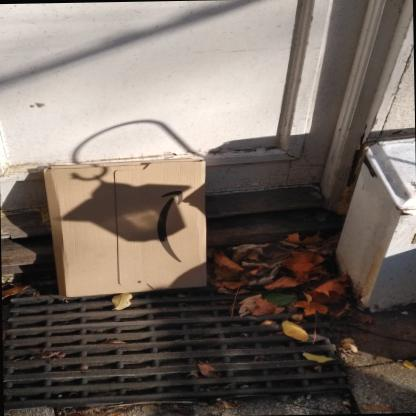box: (43, 154, 209, 299)
